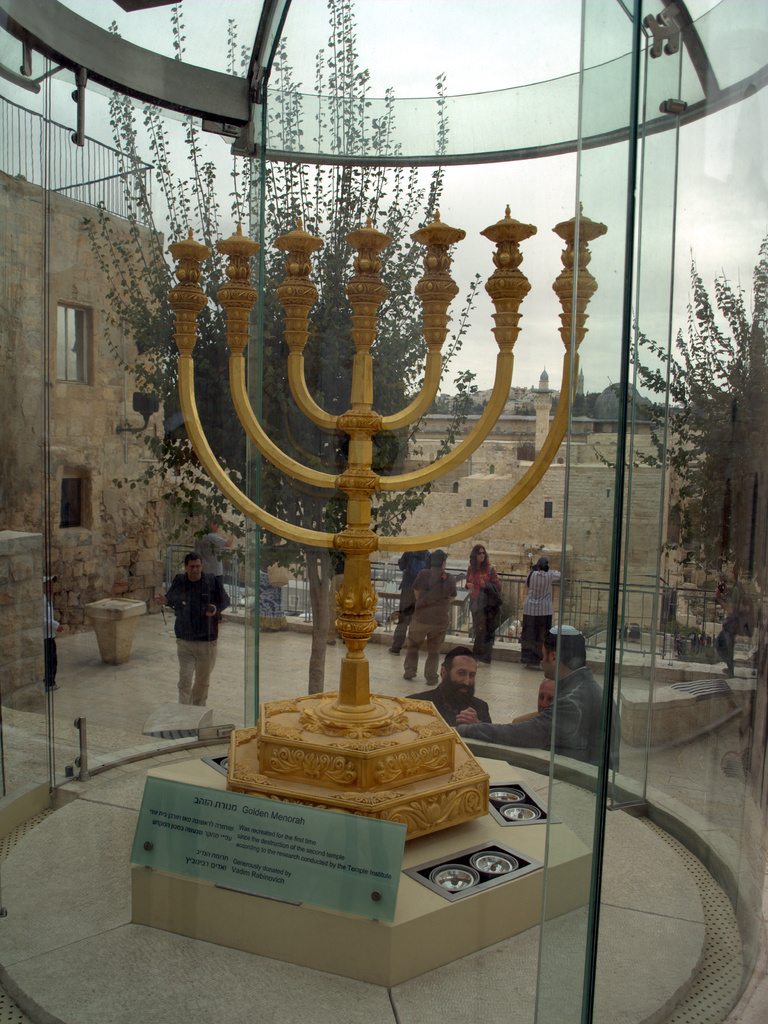person: (454, 620, 610, 764)
